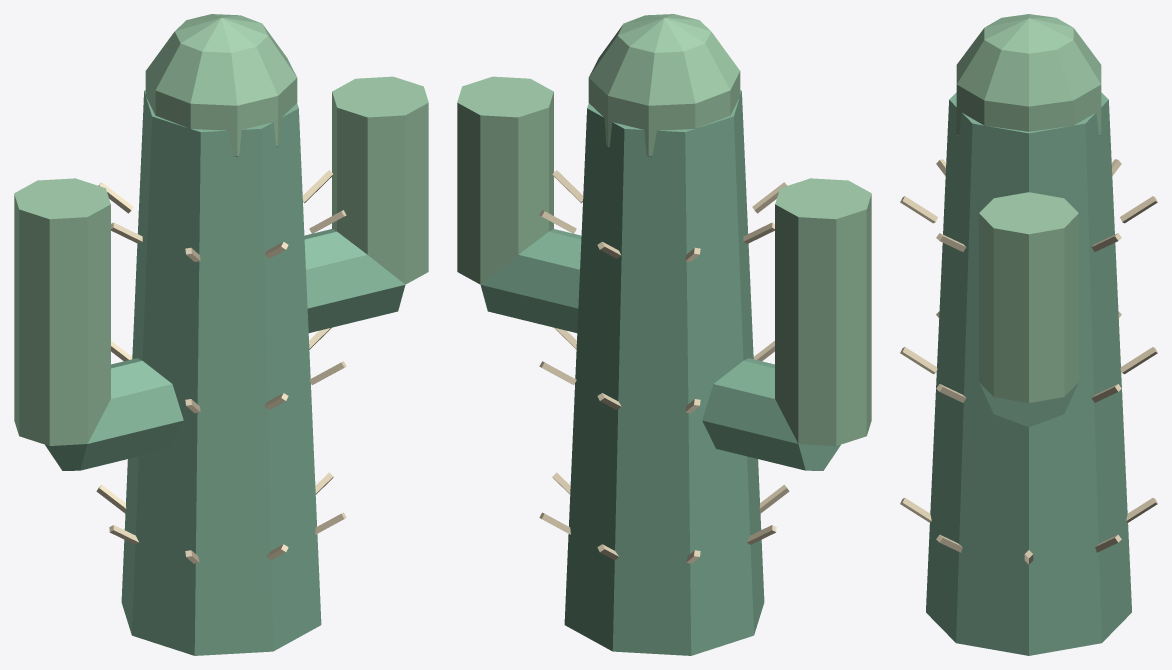
The model's file is cactus.glb.
3 views of the same model, side by side, from view 1: azimuth 30°, elevation 25°; view 2: azimuth 150°, elevation 25°; view 3: azimuth 270°, elevation 25° (orthographic).
Parts seen in each view (by area): view 1: cactus; view 2: cactus; view 3: cactus.
Boxes of the visible parts, left/top/right/bottom form: cactus: left=14, top=14, right=428, bottom=655; cactus: left=457, top=14, right=871, bottom=655; cactus: left=900, top=14, right=1157, bottom=655.
Bounding box in the file's own units: 1.4 × 1.97 × 0.7749.
